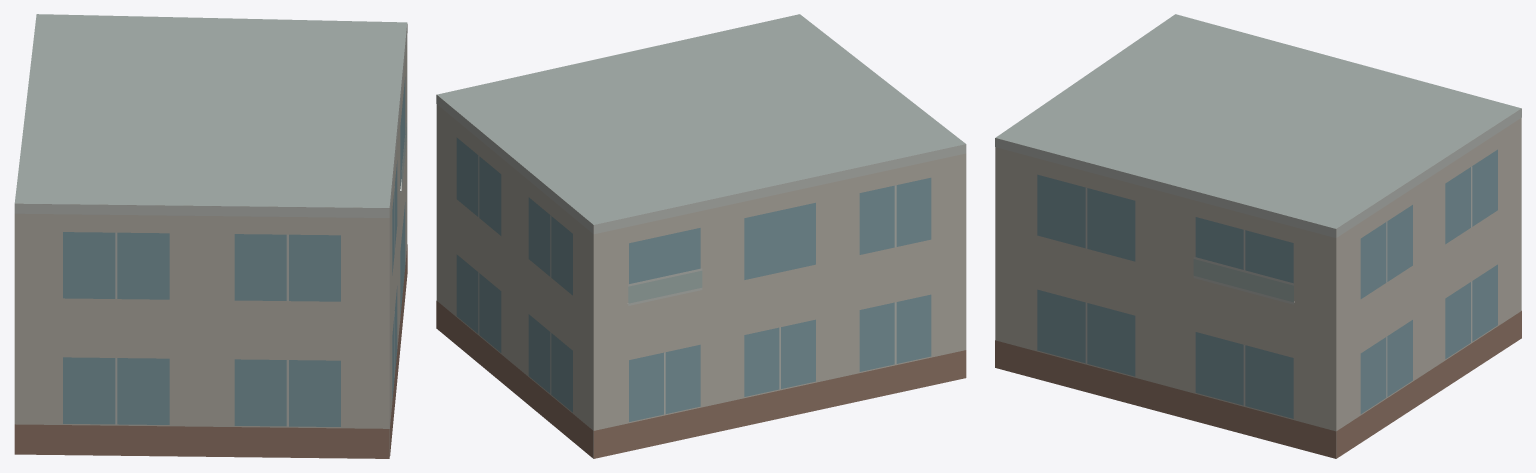
The model's file is survey-upis-32795397.glb.
3 renders of one model, left to right at view 1: azimuth 30°, elevation 25°; view 2: azimuth 150°, elevation 25°; view 3: azimuth 270°, elevation 25°, orthographic. The views are drawn at different scales.
Parts seen in each view (by area): view 1: survey-upis-32795397.tmp; view 2: survey-upis-32795397.tmp; view 3: survey-upis-32795397.tmp.
Boxes of the visible parts, x1,y1,x2,y2 form: survey-upis-32795397.tmp: (14,14,407,458); survey-upis-32795397.tmp: (436,14,966,458); survey-upis-32795397.tmp: (995,14,1521,458).
Bounding box in the file's own units: 12.24 × 6.1 × 12.67.
